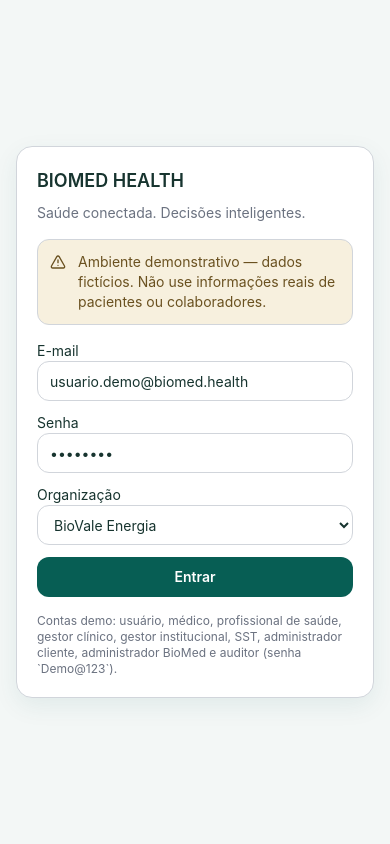
Test: LoginPage › mostra erro para credenciais inválidas
Replace the text in the field labelled "E-mail" with "invalido@biomed.health" at (195, 381), box [37, 361, 353, 401]
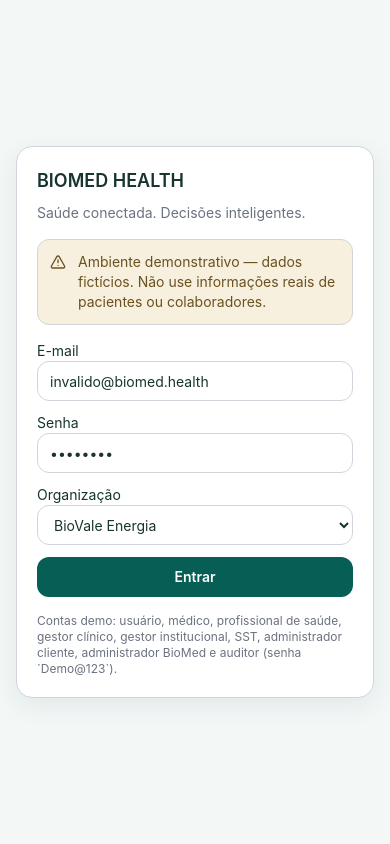
Click the button "Entrar" at (195, 577), box [37, 557, 353, 597]
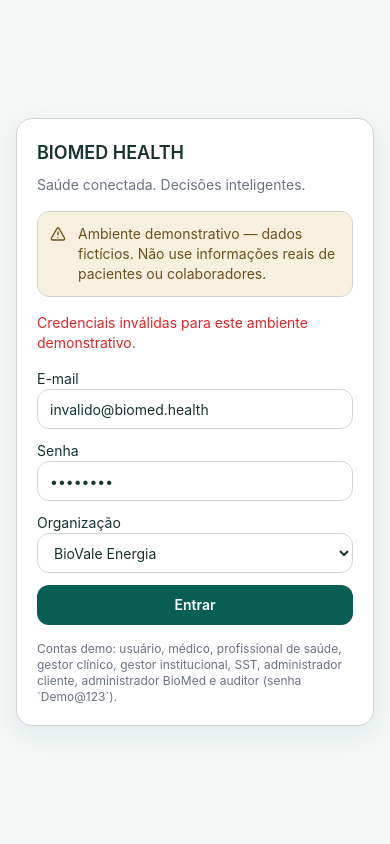
Expected: the text "Credenciais inválidas para este ambiente demonstrativo." is shown, [37, 313, 353, 353]
